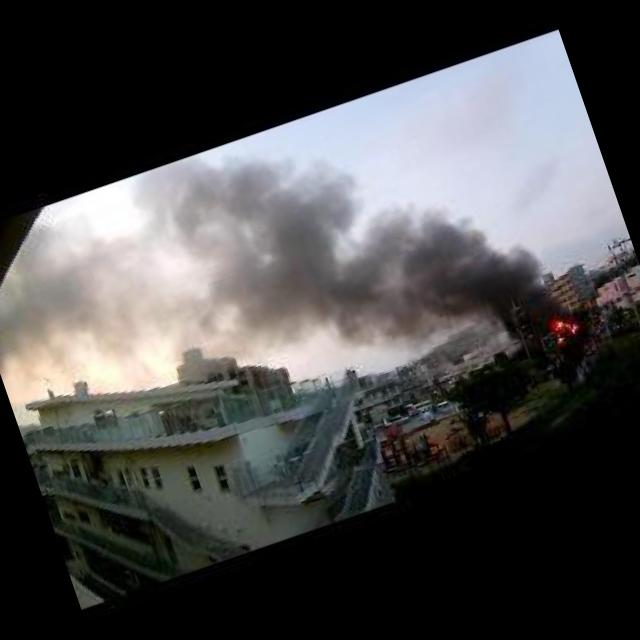smoke: (0, 55, 575, 482), (551, 314, 583, 343)
